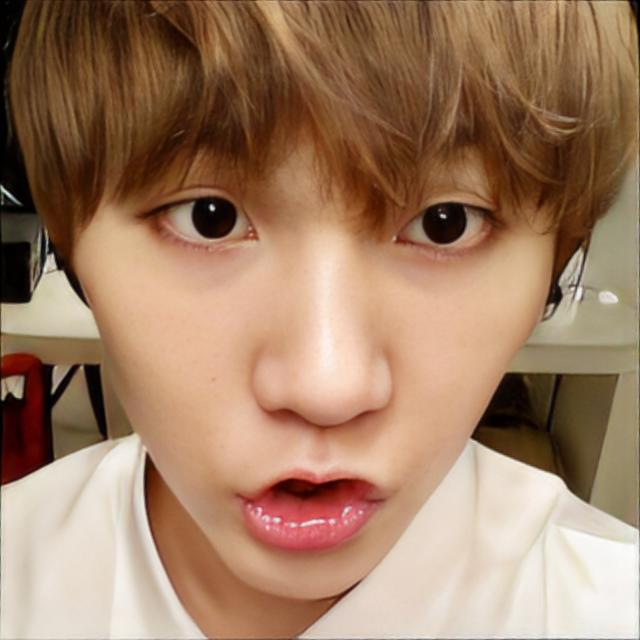surprise: (72, 10, 558, 602)
